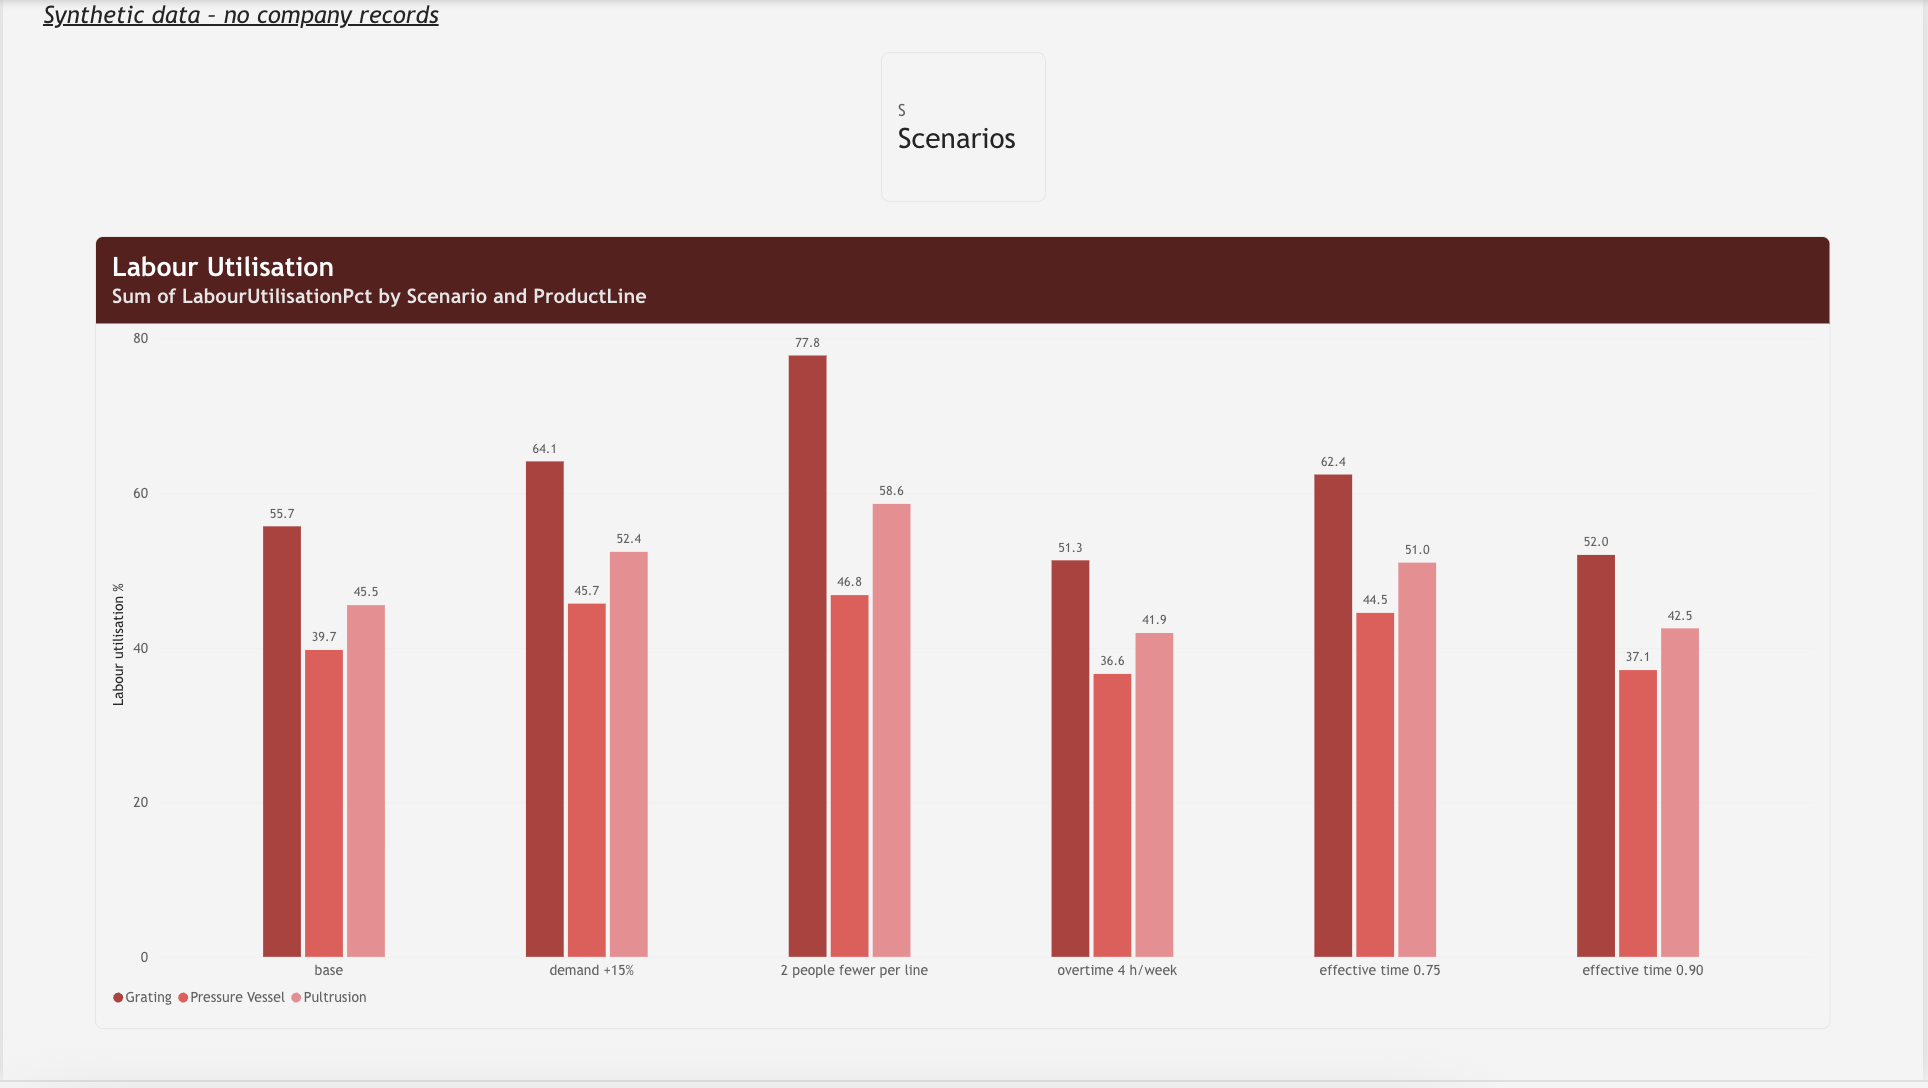

Layout of this report page (visuals, bound fields, positions):
{"tool":"powerbi","page":{"name":"Scenarios","canvas":[1920,1080],"ordinal":2},"visuals":[{"type":"textbox","box":[0,0,574.1,102.2],"z":0},{"type":"clusteredColumnChart","title":"Labour Utilisation","fields":{"Category":["tblScenarios.Scenario"],"Series":["tblProductLines.ProductLine"],"Y":["Sum(tblScenarios.LabourUtilisationPct)"]},"box":[92.1,235.7,1735.7,792.9],"z":1000},{"type":"cardVisual","fields":{"Data":["tblCalendar.S"]},"box":[878.6,51.4,165,150],"z":2000}]}

Visuals, with their boxes in screenshot pixels (x1, y1, x2, y2), scaled from the page's 1920x1080 canvas onto the 1928x1088 screenshot:
textbox: pyautogui.locateOnScreen(0, 0, 576, 103)
"Labour Utilisation" clusteredColumnChart: pyautogui.locateOnScreen(92, 237, 1835, 1036)
cardVisual - tblCalendar.S: pyautogui.locateOnScreen(882, 52, 1048, 203)
